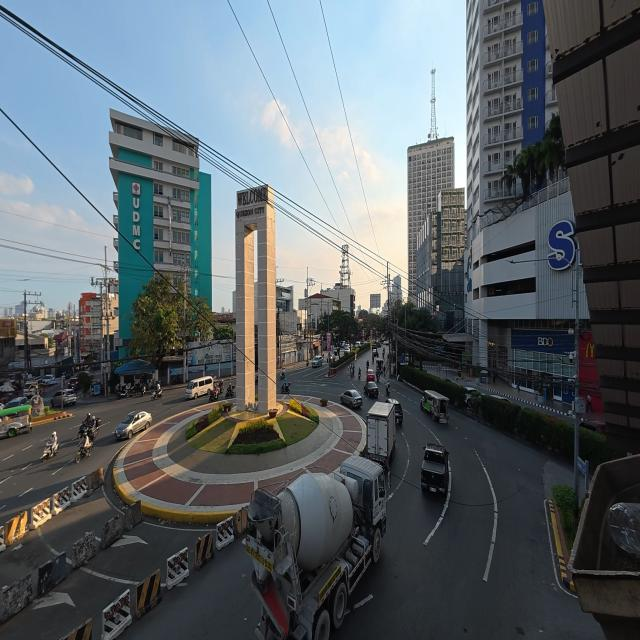Jeepneys: (0, 404, 32, 437), (421, 390, 449, 423), (376, 359, 383, 372)
car: (115, 411, 151, 438), (50, 389, 77, 407), (386, 398, 403, 424), (341, 389, 362, 408), (580, 419, 605, 434), (464, 387, 481, 404), (364, 382, 379, 397), (66, 376, 79, 391), (490, 394, 511, 403), (366, 369, 375, 382), (312, 356, 322, 367), (318, 353, 324, 364), (333, 348, 339, 358), (372, 348, 378, 357), (355, 342, 360, 348)
motorcycle: (78, 417, 100, 439), (78, 422, 99, 441), (75, 442, 93, 463), (42, 441, 59, 461), (131, 381, 146, 395), (117, 384, 129, 398), (209, 387, 219, 402), (225, 384, 233, 399), (152, 387, 162, 399), (281, 382, 290, 394), (386, 382, 390, 396), (280, 372, 285, 379), (377, 370, 379, 382), (359, 369, 360, 380)
trucks: (245, 456, 386, 639), (366, 402, 395, 467), (421, 444, 448, 493)
vans: (186, 376, 213, 399), (23, 383, 38, 398)
